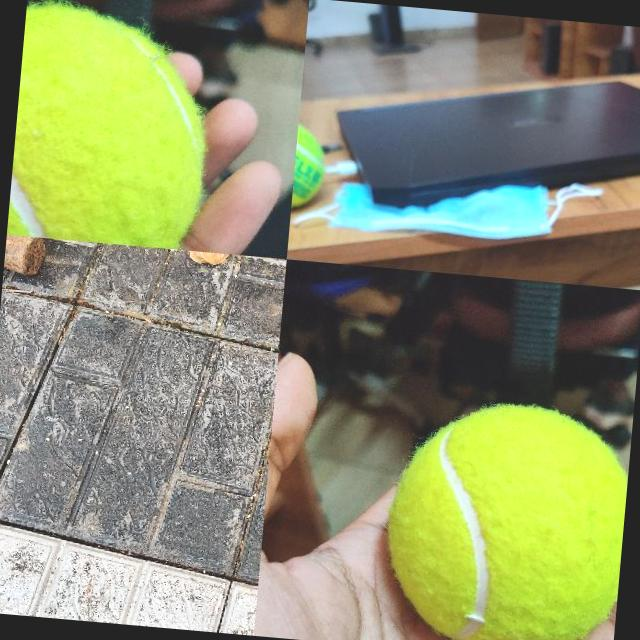Tennis Ball: (377, 394, 632, 640), (6, 2, 215, 250), (290, 120, 328, 212)
